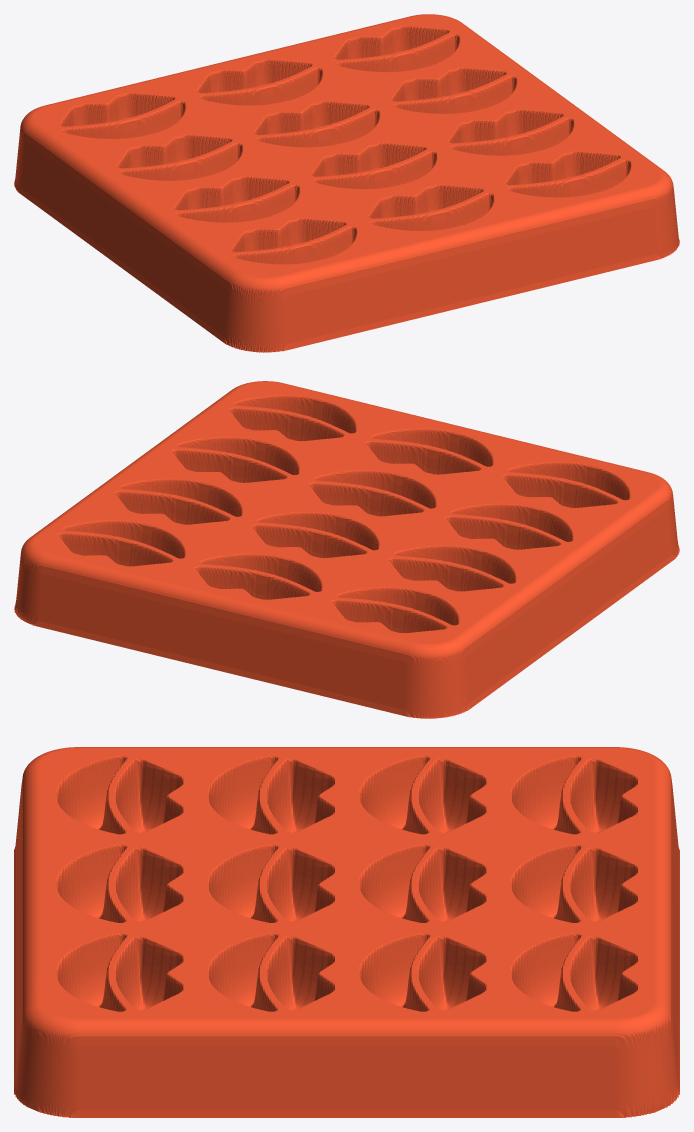
File: mold.glb
3 renders of one model, top to bottom at view 1: azimuth 30°, elevation 25°; view 2: azimuth 150°, elevation 25°; view 3: azimuth 270°, elevation 25°, orthographic. The views are drawn at different scales.
Visible parts, largest first — view 1: geometry_0; view 2: geometry_0; view 3: geometry_0.
Boxes of the visible parts, box(x1,y1,x2,y2) form: geometry_0: box(14, 14, 679, 352); geometry_0: box(14, 381, 679, 718); geometry_0: box(14, 747, 679, 1117).
Size of the model in its own units: 0.0963 by 0.0136 by 0.093.
